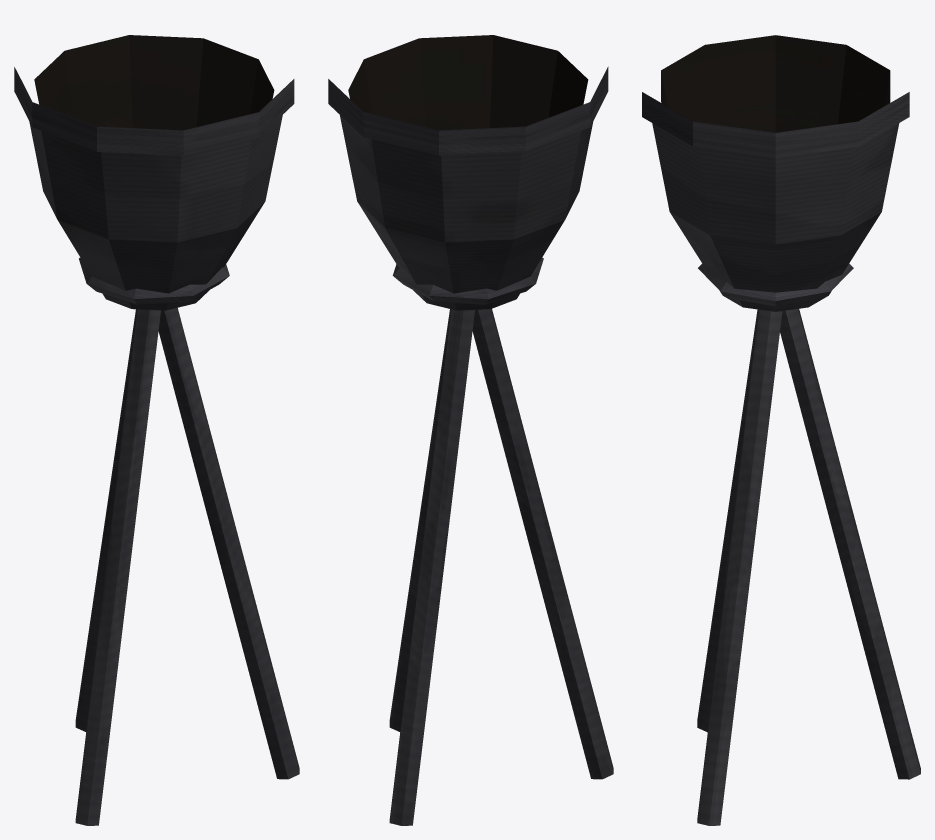
File: prop_fakkel.glb
3 views of the same model, side by side, from view 1: azimuth 30°, elevation 25°; view 2: azimuth 150°, elevation 25°; view 3: azimuth 270°, elevation 25° (orthographic).
Visible parts, largest first — view 1: prop_fakkel; view 2: prop_fakkel; view 3: prop_fakkel.
Boxes of the visible parts, x1=… form: prop_fakkel: x1=14, y1=35, x2=299, y2=825; prop_fakkel: x1=328, y1=35, x2=613, y2=825; prop_fakkel: x1=642, y1=35, x2=920, y2=825.
Size of the model in its own units: 0.252 by 0.6949 by 0.2499.
1 material, 1 textured.
